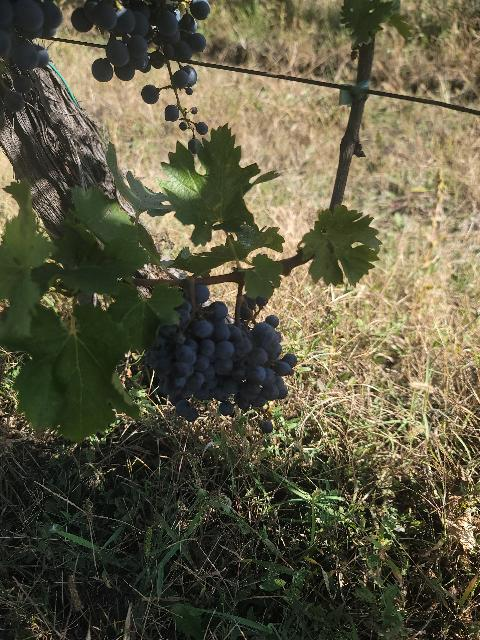grapes: (146, 300, 298, 420)
